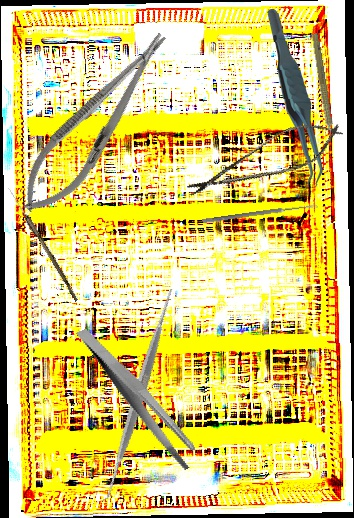Dressing Forceps: (76, 307, 202, 488)
Handpiece: (307, 32, 338, 145)
Micro Scissor: (181, 109, 349, 212)
Needle Holder: (7, 19, 185, 227)
Spatula Surgical: (28, 283, 250, 505)
Surgical Spoon: (5, 186, 81, 302), (202, 202, 318, 225)
Tissue Forceps: (266, 7, 324, 190)
